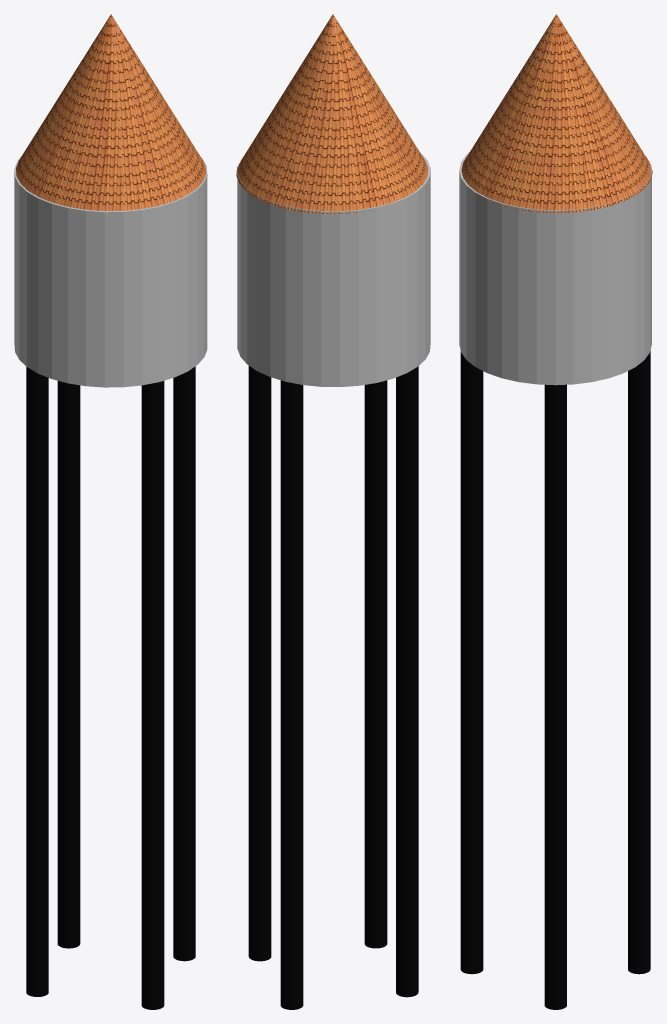
The model's file is water tower.obj.
3 renders of one model, left to right at view 1: azimuth 30°, elevation 25°; view 2: azimuth 150°, elevation 25°; view 3: azimuth 270°, elevation 25°, orthographic.
Parts seen in each view (by area): view 1: Cylinder; view 2: Cylinder; view 3: Cylinder.
Part boxes in pixels (<box>): Cylinder: <box>14,14,207,1009</box>; Cylinder: <box>236,14,430,1009</box>; Cylinder: <box>459,14,652,1009</box>.
Bounding box in the file's own units: 2.01 × 10.95 × 2.01.
